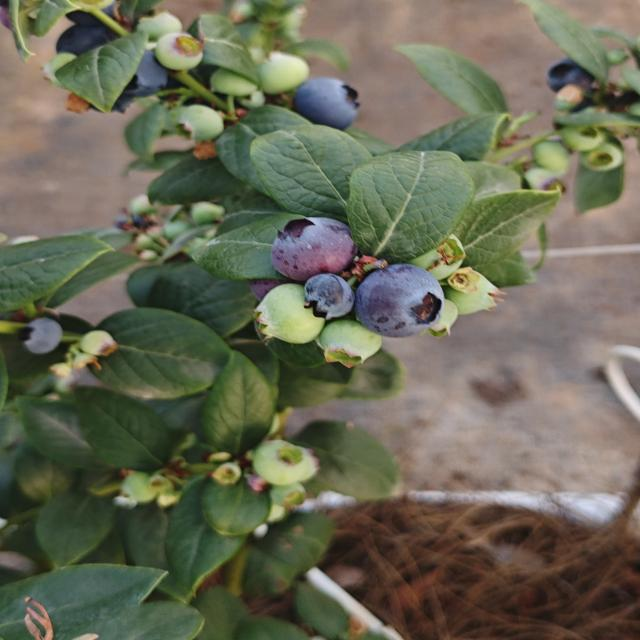ripe: (50, 18, 175, 98), (352, 261, 448, 339), (268, 215, 358, 282), (292, 76, 363, 130), (301, 271, 356, 321), (543, 52, 605, 94), (12, 319, 64, 358)
